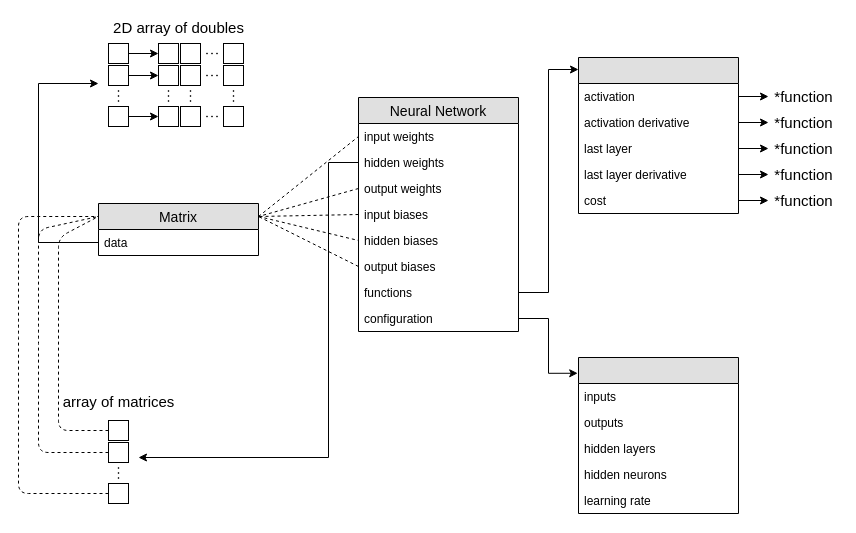
This 856x533 diagram has some shape labels left out. Each missing label, with the box of its shape:
Config: (578, 356, 738, 514)
NN Functions: (578, 56, 738, 214)
